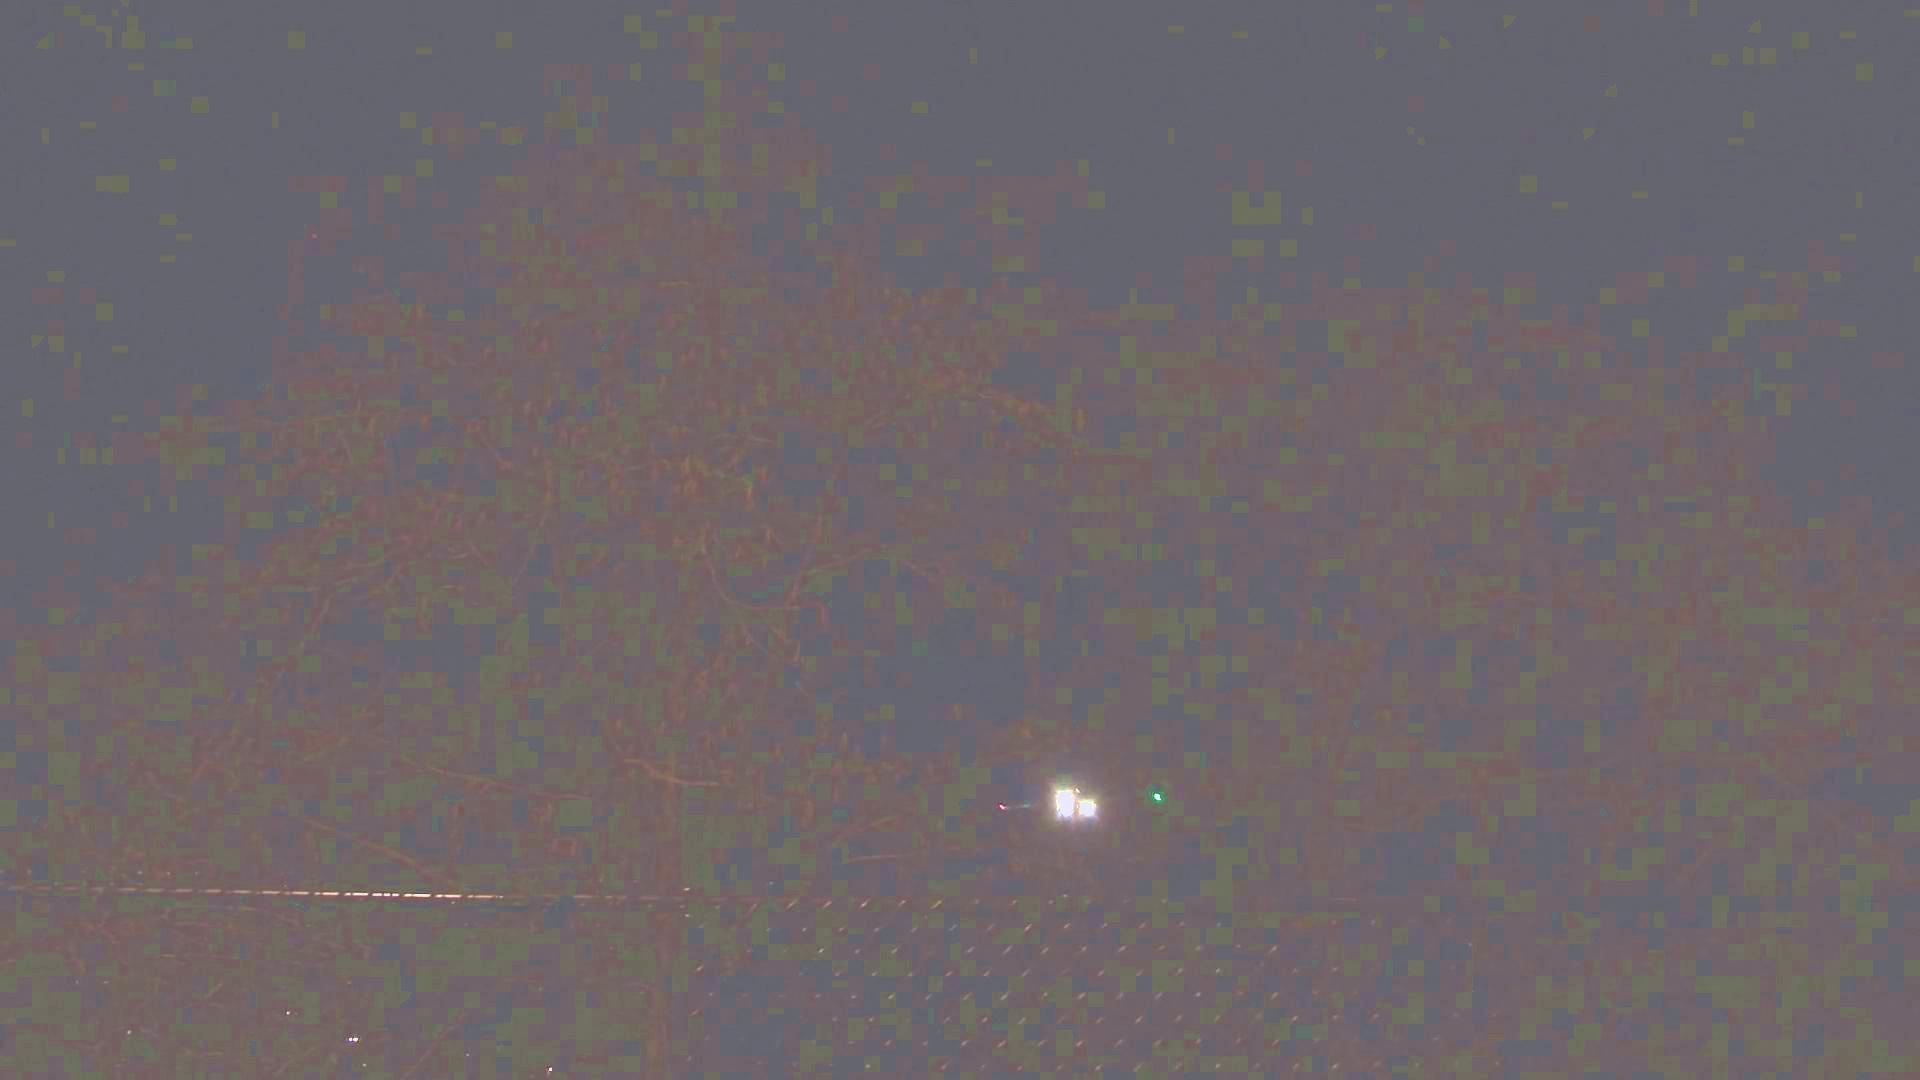Plane: (948, 767, 1192, 833)
